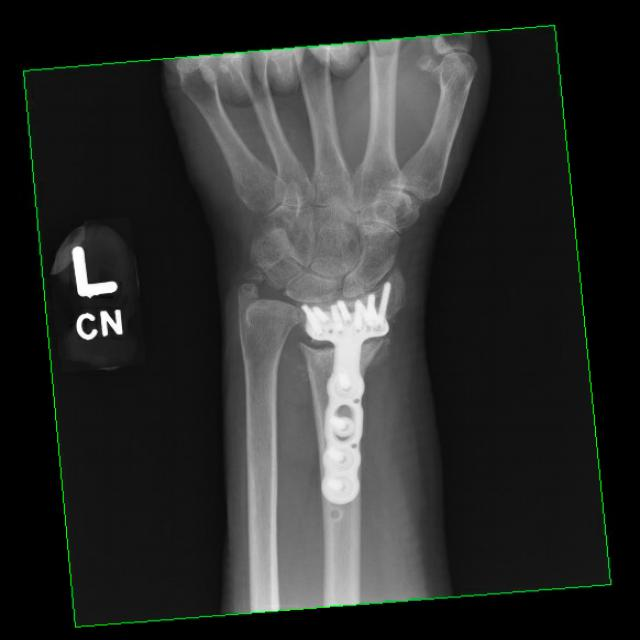x-ray: (297, 278, 399, 512)
